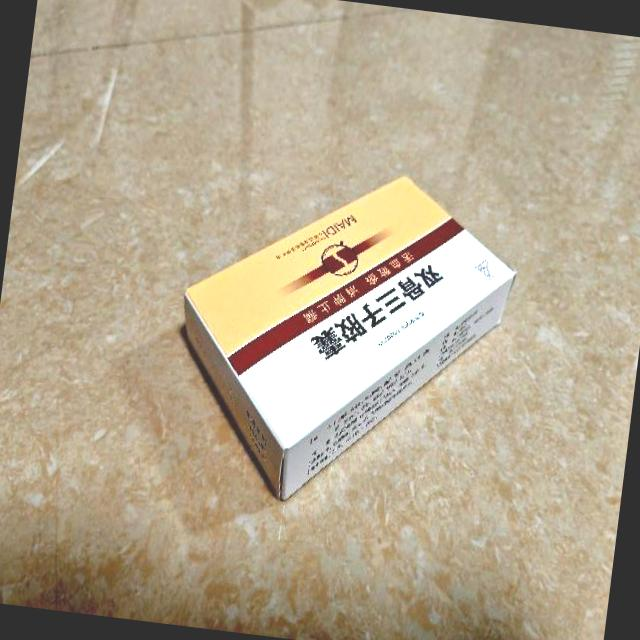box: (158, 148, 526, 528)
